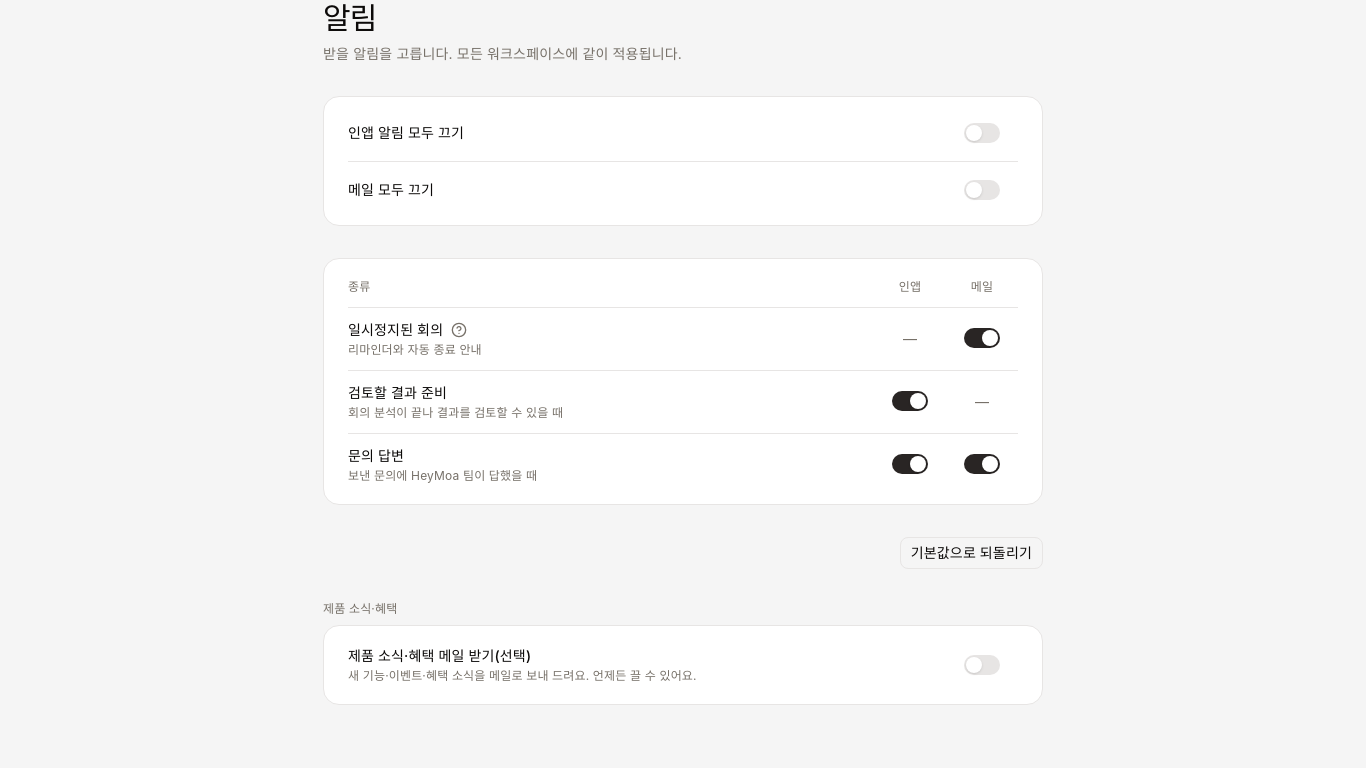
Test case: NotificationSettings › 메일 모두 끄기는 메일 열만 가린다
The width and height of the screenshot is (1366, 768).
Click the switch named "메일 모두 끄기" at (982, 190), box [964,180,1000,200]
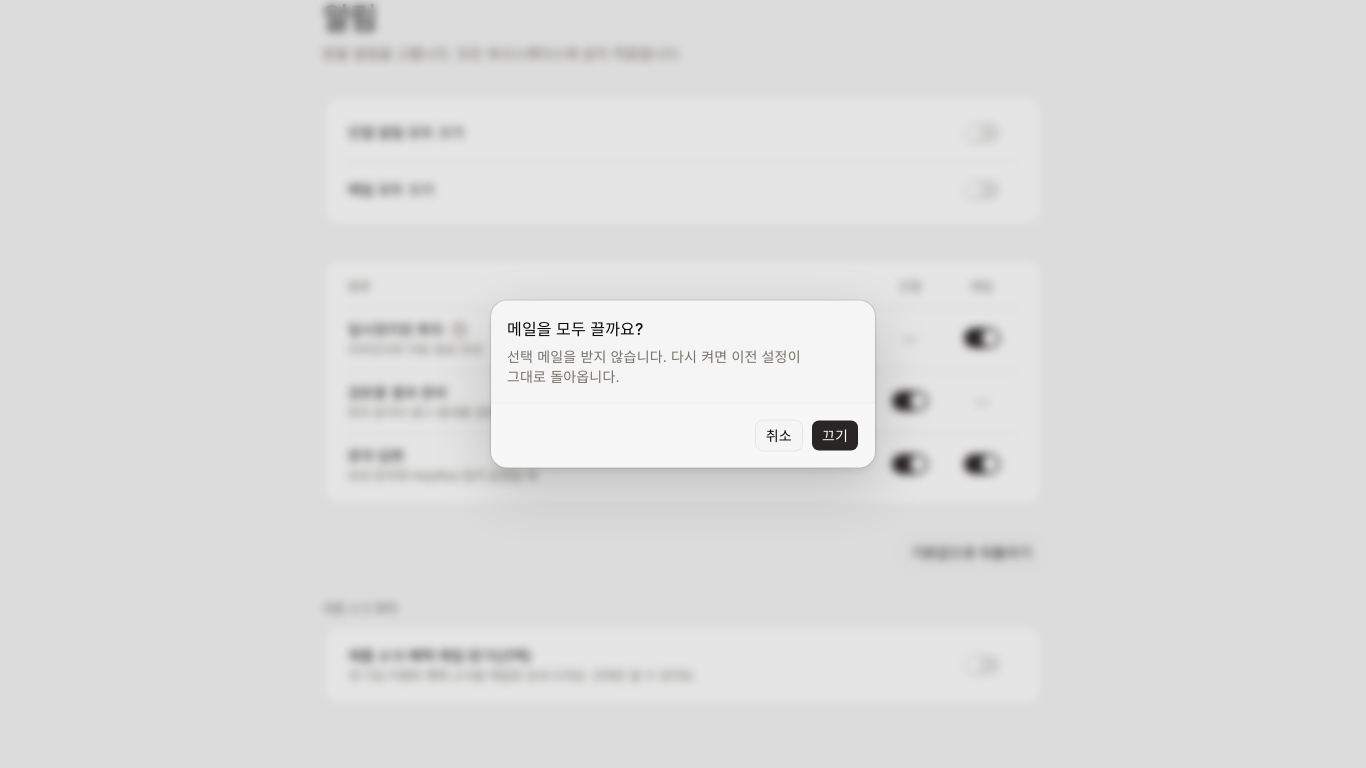
Click the button "끄기" at (835, 436), box [811,420,859,452]
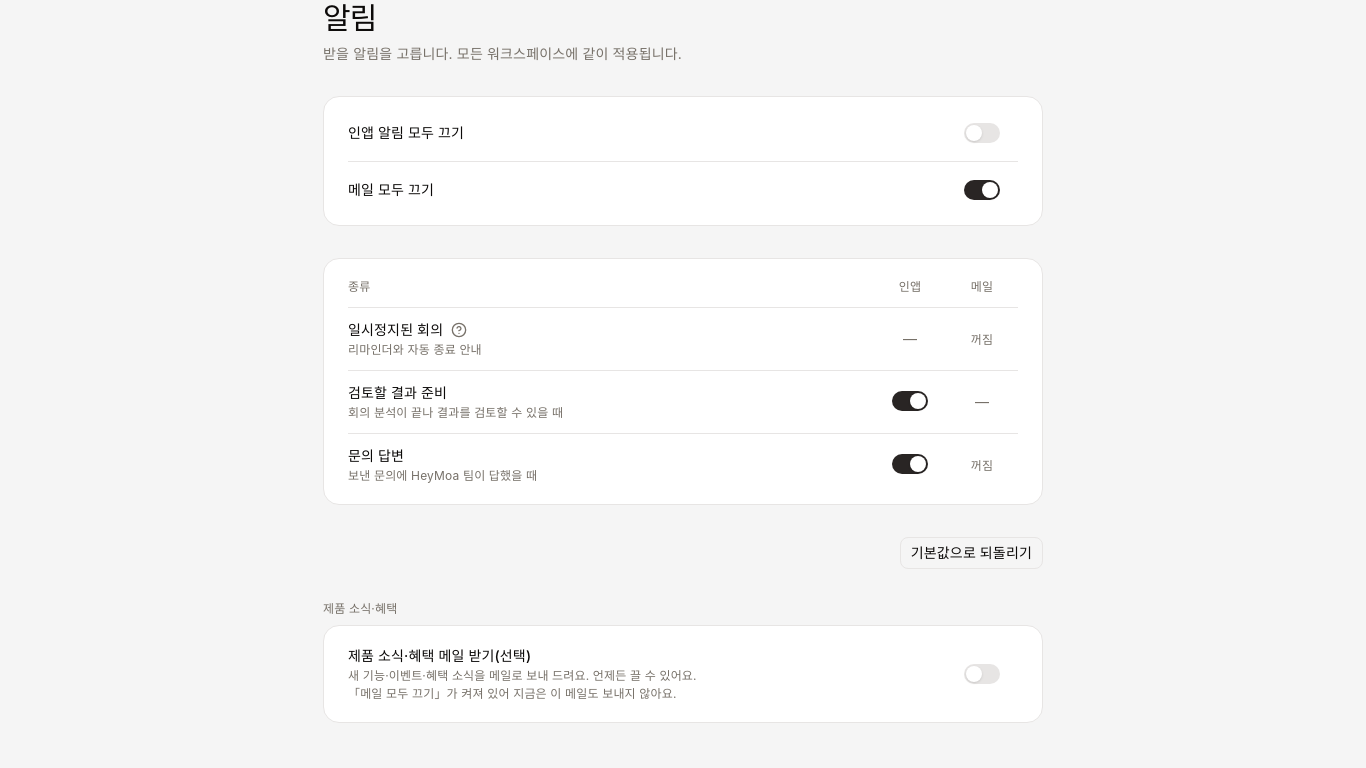
Expected: the switch named "검토할 결과 준비 인앱" is checked, [892,390,928,410]
Now the switch named "메일 모두 끄기" is checked, box [964,180,1000,200]
Now the text named "일시정지된 회의 메일 꺼짐" is shown, box [971,332,993,346]
